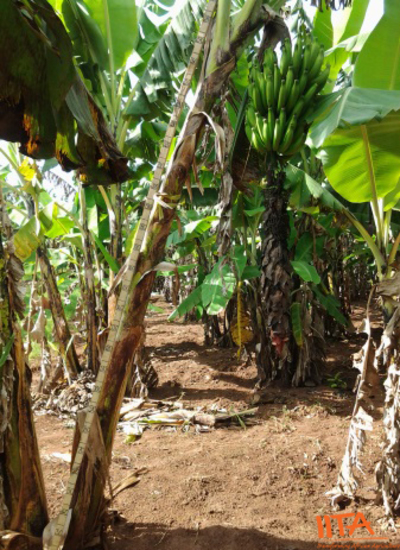bananaHand: (241, 28, 338, 157)
